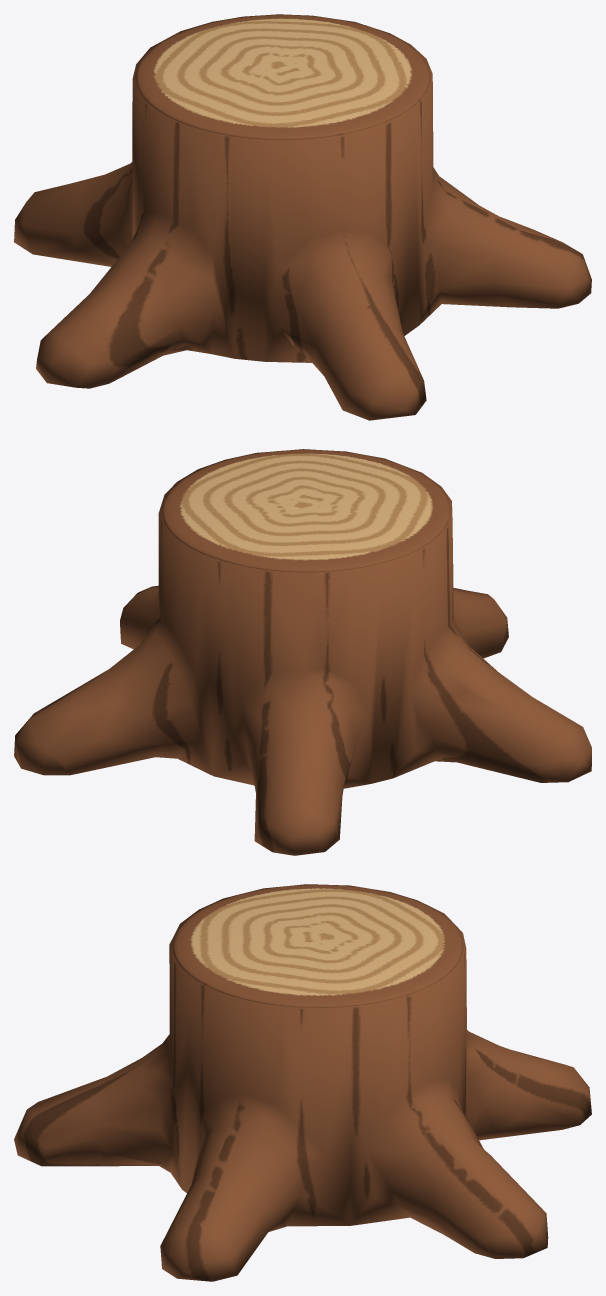
The model's file is Stump.fbx.
The picture shows the model from 3 angles, top to bottom: view 1: azimuth 30°, elevation 25°; view 2: azimuth 150°, elevation 25°; view 3: azimuth 270°, elevation 25°; orthographic projection. The views are drawn at different scales.
Visible parts, largest first — view 1: Stump; view 2: Stump; view 3: Stump.
Part boxes in pixels (<box>): Stump: <box>14,14,591,420</box>; Stump: <box>14,449,591,855</box>; Stump: <box>14,884,591,1281</box>.
Size of the model in its own units: 1.88 by 0.8154 by 1.87.
1 material, 1 textured.
